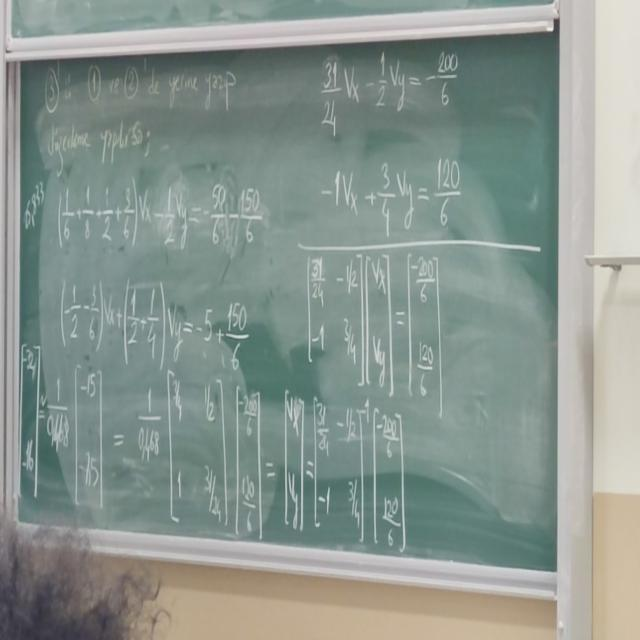math: (130, 363, 409, 555), (299, 245, 442, 402), (55, 172, 270, 266), (51, 273, 260, 368), (23, 334, 110, 524), (321, 45, 467, 129), (324, 153, 466, 236)
text: (42, 57, 240, 152)
